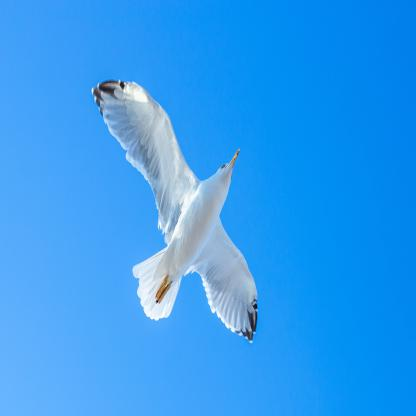bird: (92, 78, 258, 343)
